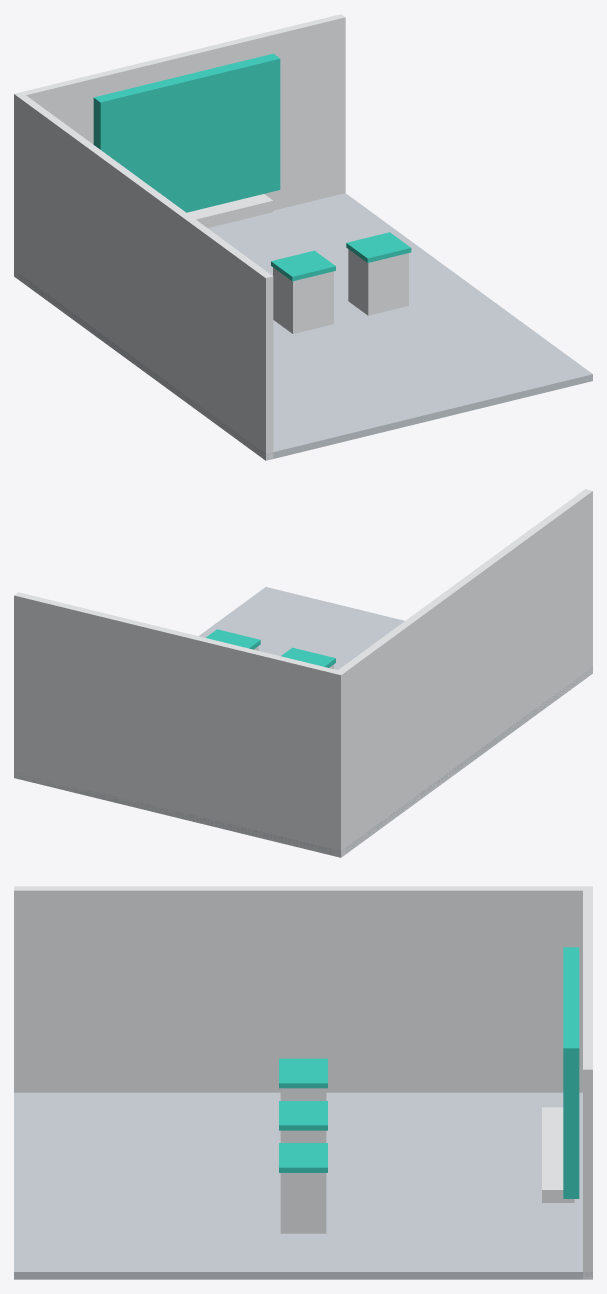
3 renders of one model, top to bottom at view 1: azimuth 30°, elevation 25°; view 2: azimuth 150°, elevation 25°; view 3: azimuth 270°, elevation 25°, orthographic. The views are drawn at different scales.
Visible parts, largest first — view 1: Exhibition Booth Concept; view 2: Exhibition Booth Concept; view 3: Exhibition Booth Concept.
Part boxes in pixels (x1,y1,x2,y2): Exhibition Booth Concept: [14, 14, 592, 460]; Exhibition Booth Concept: [14, 489, 592, 857]; Exhibition Booth Concept: [14, 886, 592, 1279].
Size of the model in its own units: 6 by 3.2 by 8.
